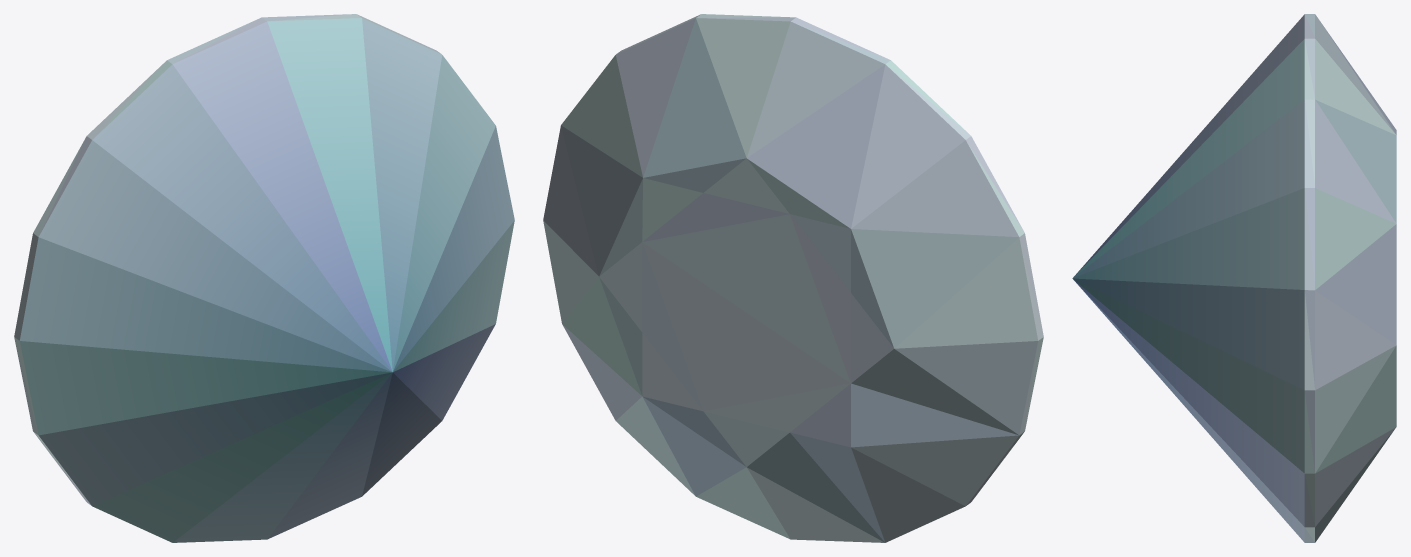
Rendered from Diamond.008.glb.
The picture shows the model from 3 angles, left to right: view 1: azimuth 30°, elevation 25°; view 2: azimuth 150°, elevation 25°; view 3: azimuth 270°, elevation 25°; orthographic projection. The views are drawn at different scales.
Parts seen in each view (by area): view 1: Diamond.008; view 2: Diamond.008; view 3: Diamond.008.
Part boxes in pixels (x1=…): Diamond.008: x1=14, y1=14, x2=514, y2=542; Diamond.008: x1=543, y1=14, x2=1043, y2=542; Diamond.008: x1=1072, y1=14, x2=1396, y2=542.
Bounding box in the file's own units: 91.88 × 91.88 × 56.28.
